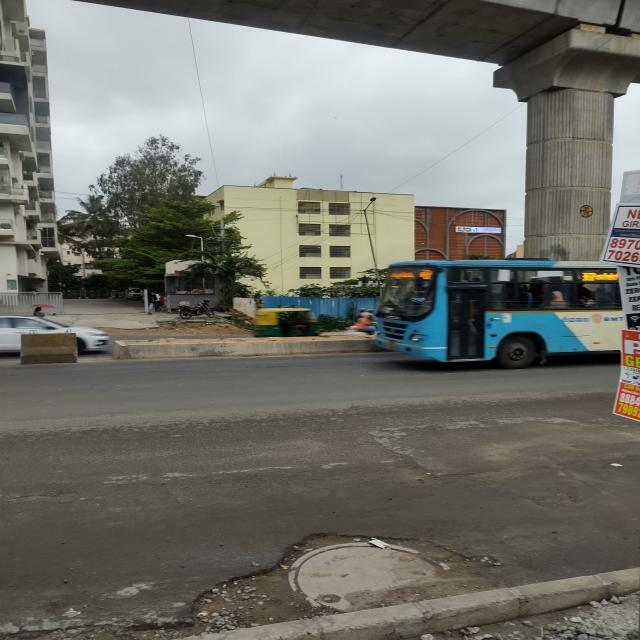bus: (371, 250, 640, 366)
display: (578, 268, 623, 283), (388, 269, 432, 282)
dnumber: (582, 271, 596, 281)
